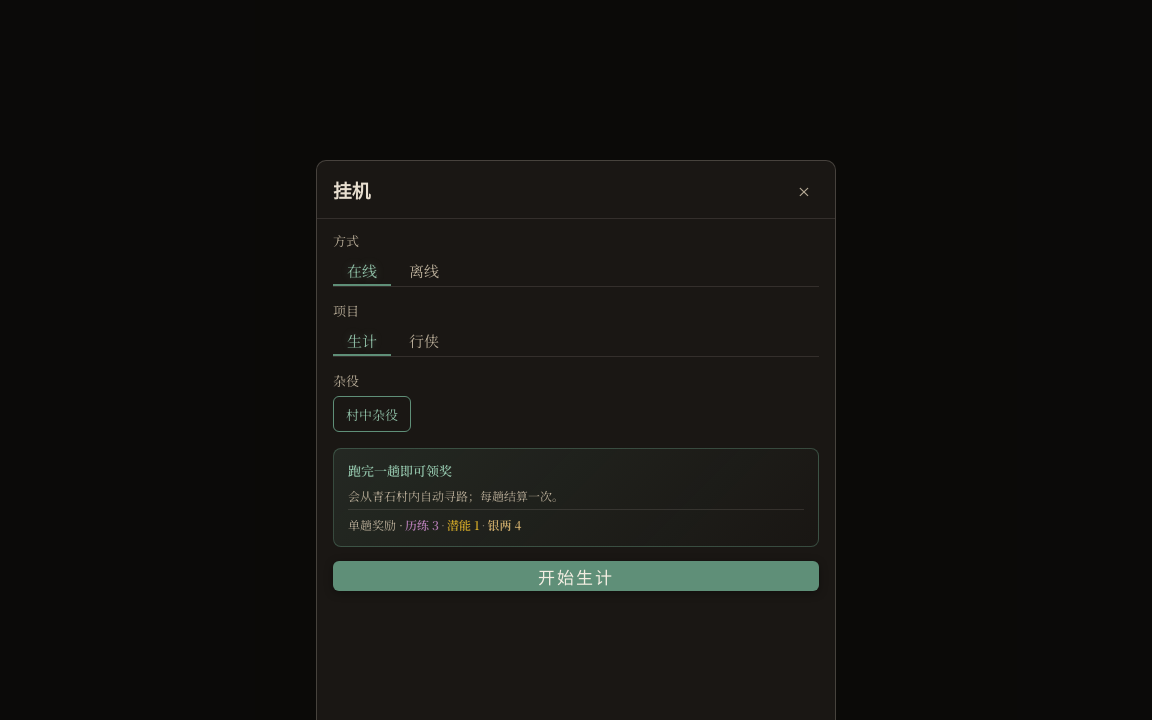
Test: AfkSheet（挂机启动） › 行侠：无已解锁差事时提示且不可安排
The image size is (1152, 720).
Click the button "行侠".
click(424, 341)  # box [395, 326, 453, 356]
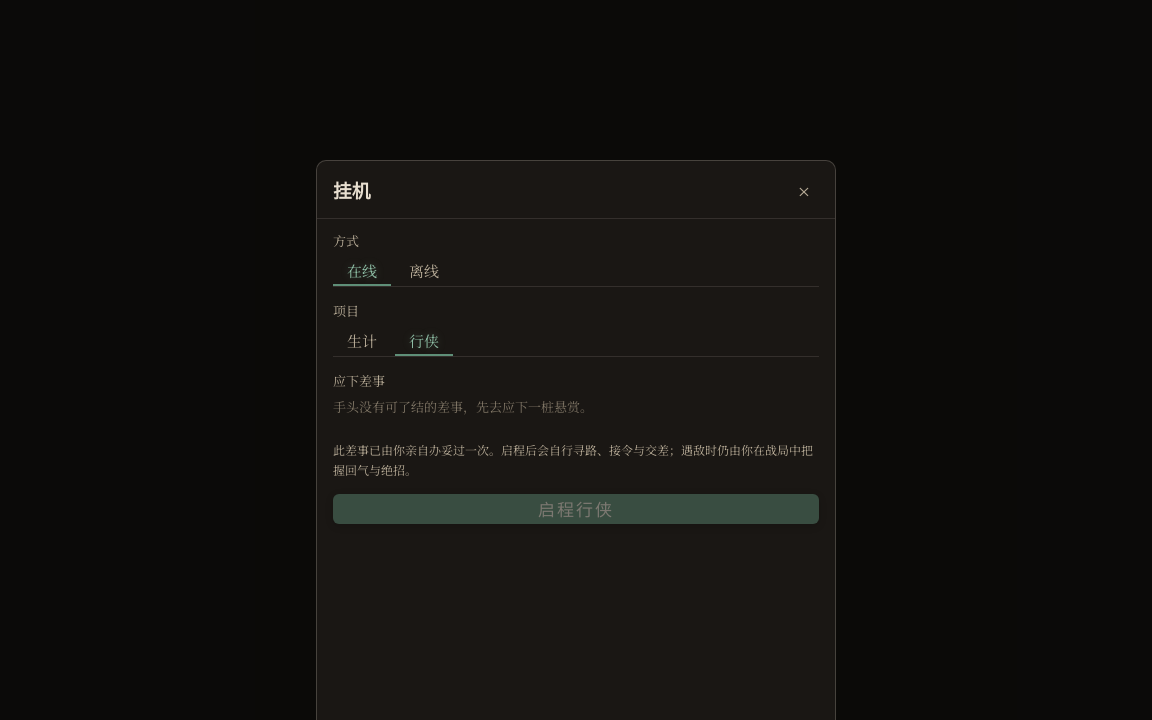
Expected: the text "先去应下一桩悬赏" is shown, [333, 397, 593, 416]
Expected: the text "亲自办妥过一次" is shown, [333, 441, 813, 478]
Expected: the button "启程行侠" is disabled, [333, 494, 819, 524]
